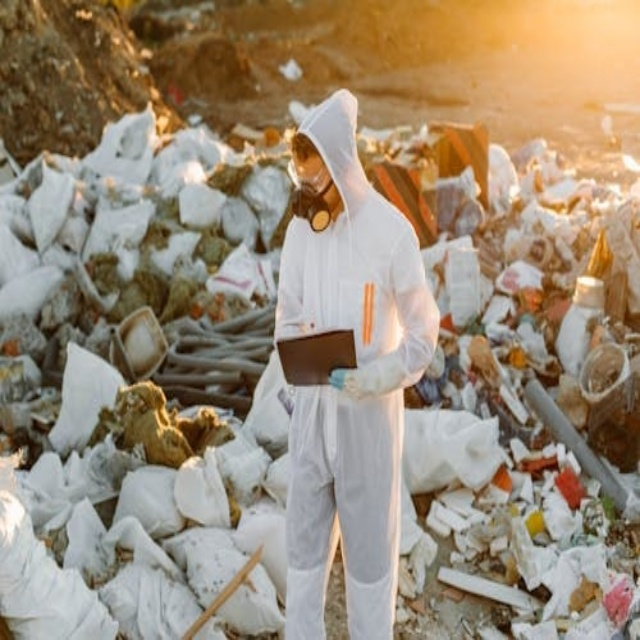Gafas: (290, 142, 331, 195)
Guantes: (333, 350, 405, 400)
Mascara: (290, 172, 338, 231)
